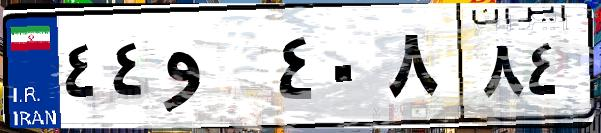0: (330, 28, 385, 110)
4: (270, 28, 330, 110), (57, 26, 110, 100), (525, 38, 570, 115), (110, 28, 158, 98)
8: (385, 28, 445, 110), (475, 38, 525, 113)
و: (158, 20, 270, 120)
